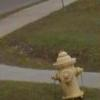Hydrant: (47, 40, 88, 100)
